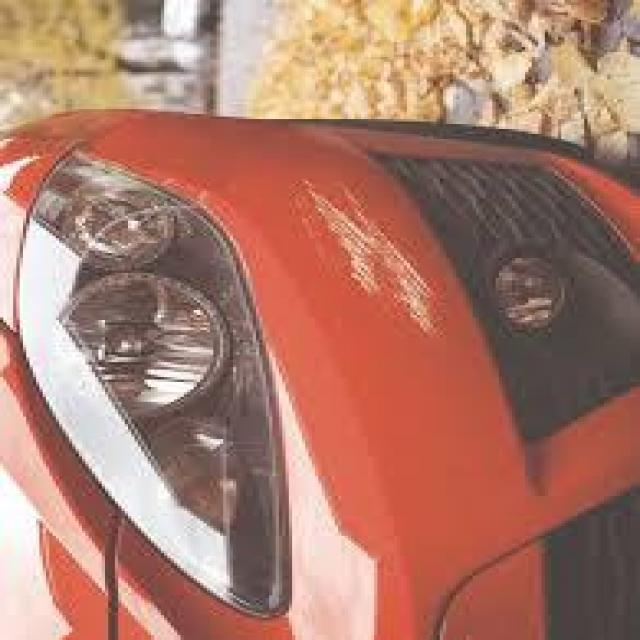scratch: (268, 162, 462, 366)
